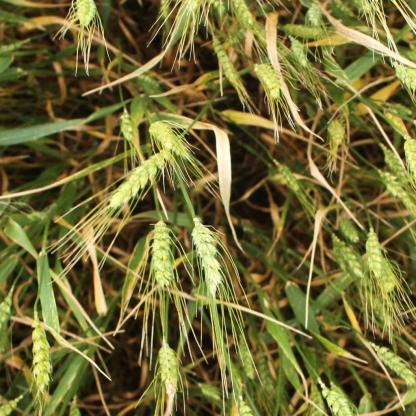whd: (110, 152, 167, 206), (192, 221, 227, 293), (151, 220, 176, 285), (381, 172, 414, 217), (376, 347, 414, 384), (235, 0, 270, 38), (31, 322, 50, 389), (213, 41, 240, 85), (149, 120, 183, 154), (364, 291, 392, 327), (338, 242, 364, 276), (160, 346, 178, 395), (256, 65, 281, 98), (364, 235, 383, 278), (384, 149, 408, 183), (375, 254, 395, 294), (257, 349, 275, 390), (324, 388, 352, 414), (239, 336, 256, 378), (278, 24, 324, 39), (277, 164, 299, 192), (1, 290, 12, 343), (74, 0, 94, 27), (329, 383, 353, 405), (289, 39, 308, 66), (404, 136, 416, 178), (307, 387, 324, 415), (2, 393, 22, 415), (119, 112, 135, 139), (328, 121, 346, 145), (329, 0, 356, 16), (334, 242, 346, 272), (405, 64, 416, 92), (350, 0, 372, 14), (386, 103, 410, 115), (392, 62, 405, 83), (343, 222, 358, 240), (200, 384, 219, 398), (309, 4, 320, 26), (140, 74, 158, 87), (27, 211, 48, 222), (158, 0, 170, 19), (209, 0, 226, 12), (68, 402, 82, 416), (242, 219, 255, 234), (238, 402, 254, 414), (184, 0, 200, 11)
